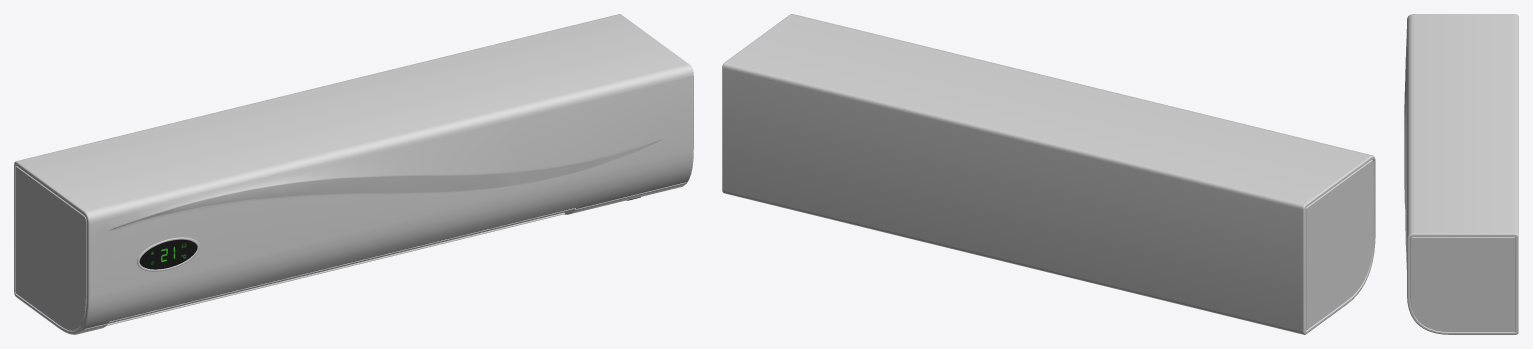
Rendered from air_condit_2.fbx.
3 renders of one model, left to right at view 1: azimuth 30°, elevation 25°; view 2: azimuth 150°, elevation 25°; view 3: azimuth 270°, elevation 25°, orthographic. The views are drawn at different scales.
Visible parts, largest first — view 1: archmodels74_043_001, archmodels74_043_002; view 2: archmodels74_043_001; view 3: archmodels74_043_001.
Part boxes in pixels (left/top/right/bottom): archmodels74_043_001: left=14, top=14, right=693, bottom=334; archmodels74_043_002: left=139, top=197, right=640, bottom=269; archmodels74_043_001: left=722, top=14, right=1375, bottom=334; archmodels74_043_001: left=1404, top=14, right=1518, bottom=334.
Size of the model in its own units: 27.56 by 5.94 by 6.04.
Materials: 2 (1 with a texture image).
